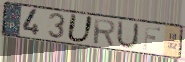3: (46, 12, 67, 40)
4: (21, 8, 43, 39)
F: (142, 24, 162, 52)
R: (93, 17, 117, 47)
U: (65, 12, 96, 44), (115, 19, 141, 50)
